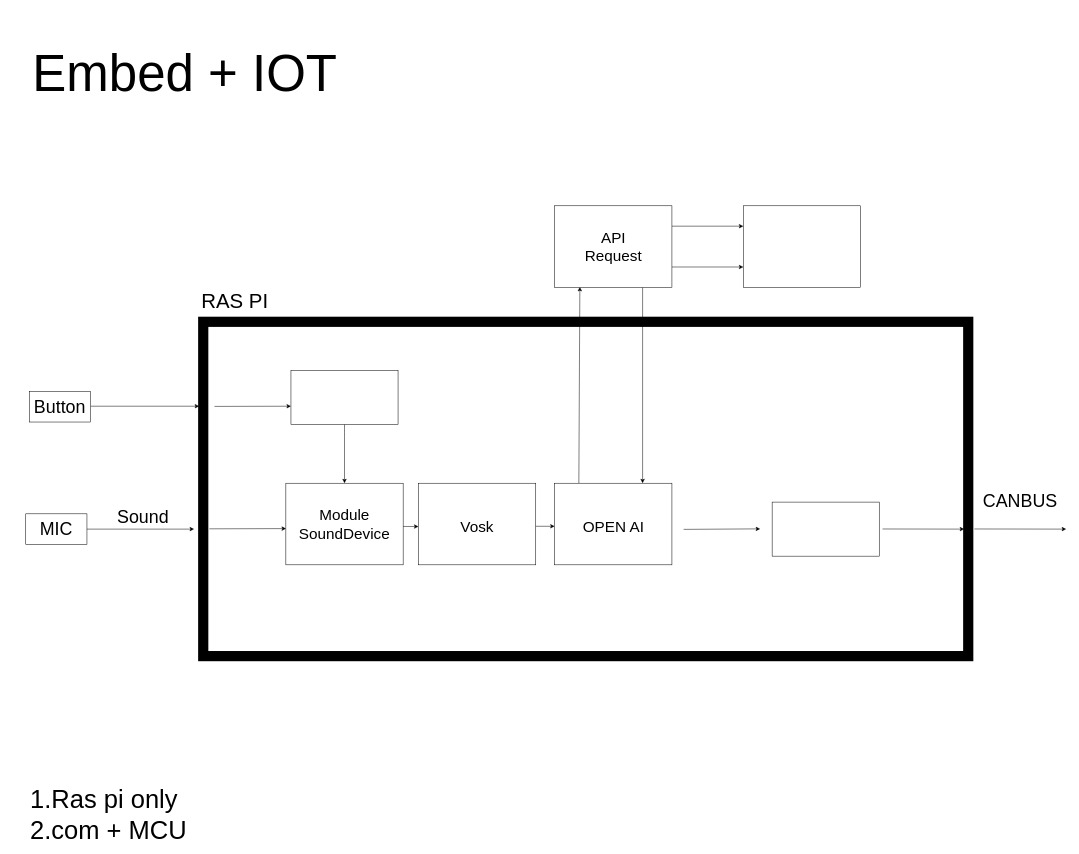
This 1079x854 diagram has some shape labels left out. The centre of each missing label's shape, as x and y in pixels:
Button Interface: the point at 344,397
Server /DataBase: the point at 802,246
SPI: the point at 825,529
